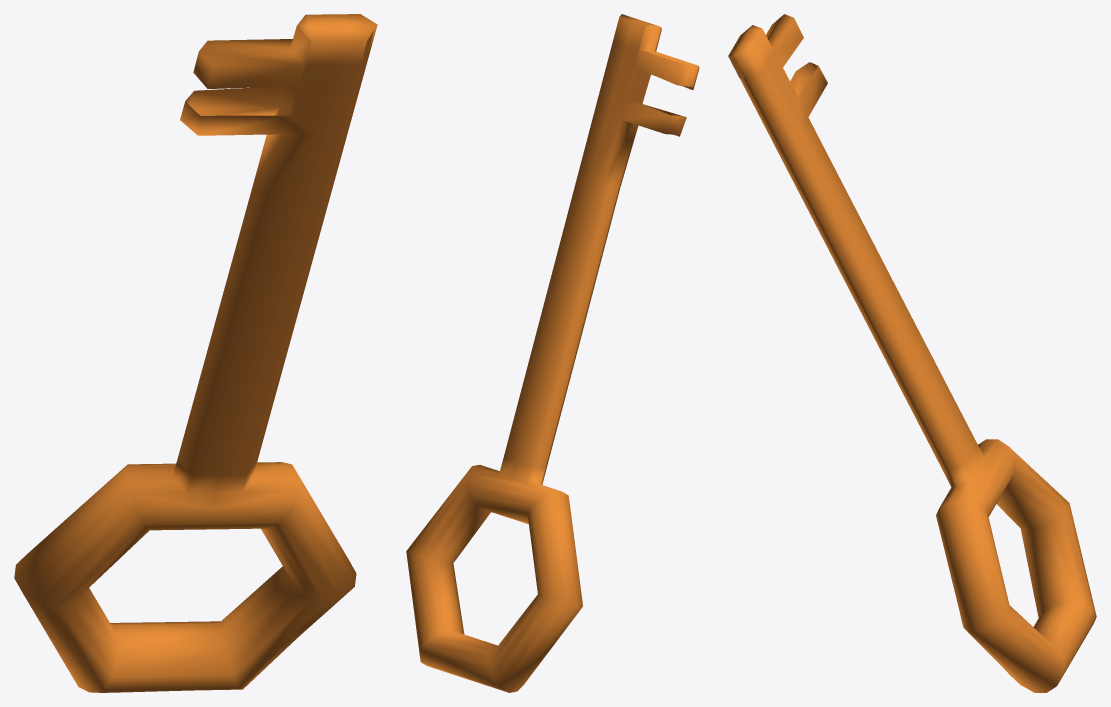
Rendered from Main_Key_Model.fbx.
The picture shows the model from 3 angles, left to right: view 1: azimuth 30°, elevation 25°; view 2: azimuth 150°, elevation 25°; view 3: azimuth 270°, elevation 25°; orthographic projection. The views are drawn at different scales.
Visible parts, largest first — view 1: Torus.001; view 2: Torus.001; view 3: Torus.001.
Boxes of the visible parts, bbox=[...] form: Torus.001: bbox=[14, 14, 377, 692]; Torus.001: bbox=[406, 14, 699, 692]; Torus.001: bbox=[728, 14, 1096, 692].
Bounding box in the file's own units: 240 × 653 × 352.
